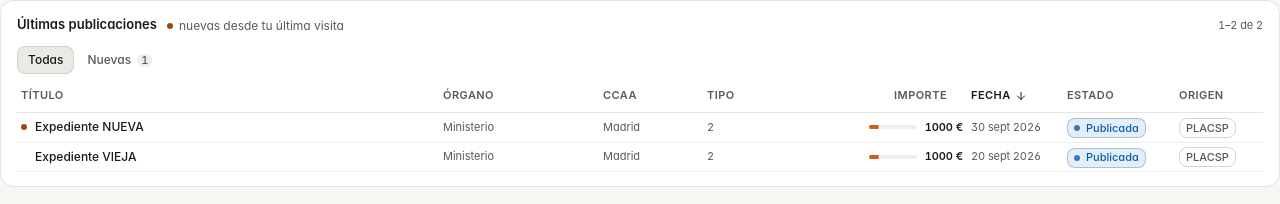
Test: UltimasPublicaciones · filas nuevas › «Nuevas» deja solo las filas publicadas después de tu última visita
This screenshot has width=1280, height=204.
Expected: the text "Expediente VIEJA" is shown, [35, 149, 136, 165]
Click the button "Nuevas 1" at (120, 60), box [76, 46, 163, 74]
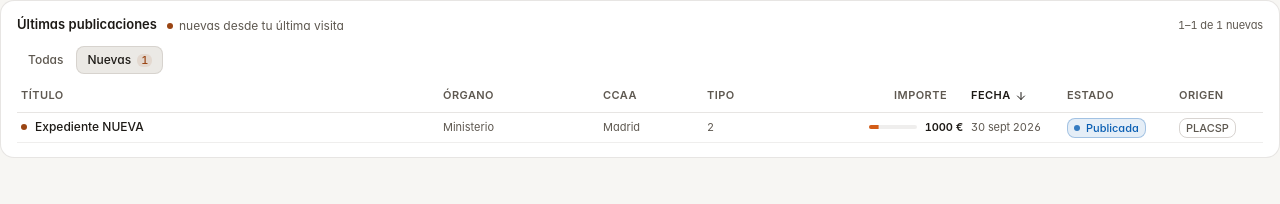
Expected: the text "Expediente NUEVA" is shown, [35, 119, 144, 136]
Now the link "Expediente VIEJA" is gone
